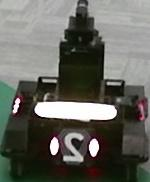armor_2: (50, 136, 99, 157)
light: (34, 101, 117, 121)
